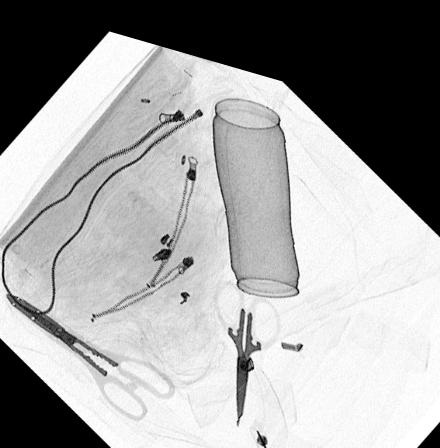Scissors: (3, 289, 179, 414), (209, 263, 286, 416)
